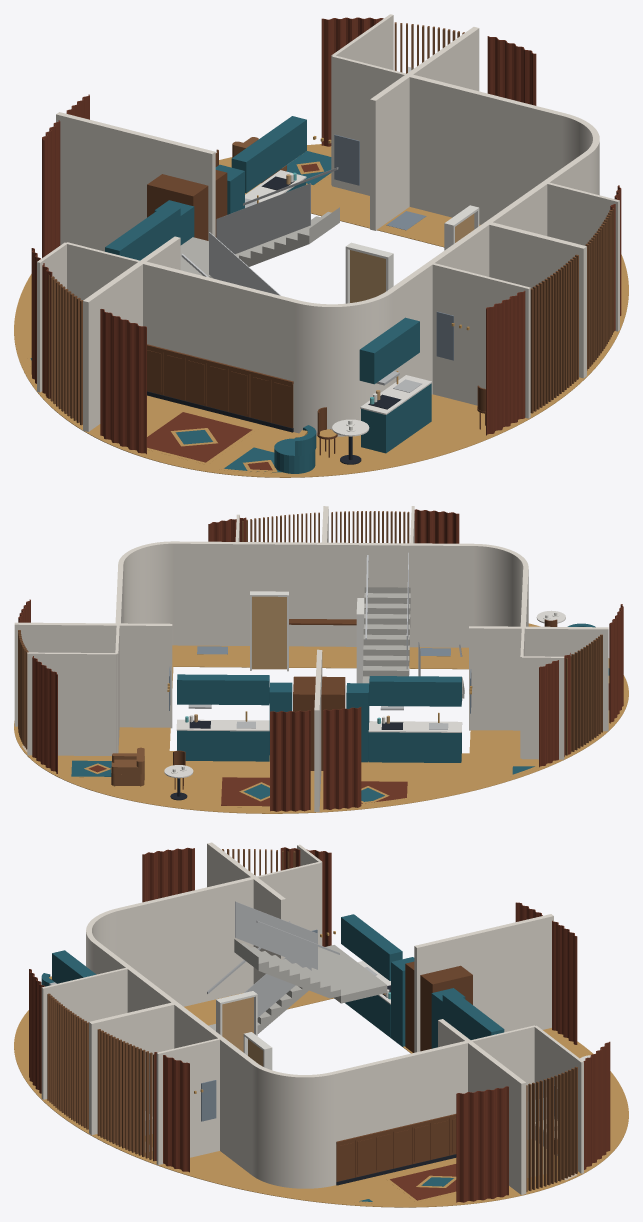
The picture shows the model from 3 angles, top to bottom: view 1: azimuth 30°, elevation 25°; view 2: azimuth 150°, elevation 25°; view 3: azimuth 270°, elevation 25°; orthographic projection. The views are drawn at different scales.
Visible parts, largest first — view 1: Muros, Mobiliario, Elementos genéricos, Pisos, Carpintería, Barandales, Puertas, Escaleras, Equipo especial; view 2: Muros, Mobiliario, Pisos, Carpintería, Elementos genéricos, Escaleras, Puertas, Equipo especial, Barandales; view 3: Muros, Elementos genéricos, Mobiliario, Pisos, Carpintería, Escaleras, Barandales, Puertas, Equipo especial.
Boxes of the visible parts, <box> form: Muros: <box>37,14,619,436</box>; Mobiliario: <box>26,17,621,473</box>; Elementos genéricos: <box>45,22,614,432</box>; Pisos: <box>14,144,628,477</box>; Carpintería: <box>105,116,432,453</box>; Barandales: <box>181,167,338,295</box>; Puertas: <box>345,205,479,303</box>; Escaleras: <box>180,207,339,278</box>; Equipo especial: <box>154,164,244,245</box>; Muros: <box>14,506,608,811</box>; Mobiliario: <box>18,509,623,811</box>; Pisos: <box>14,623,628,813</box>; Carpintería: <box>176,674,462,770</box>; Elementos genéricos: <box>18,511,602,755</box>; Escaleras: <box>362,587,464,704</box>; Puertas: <box>250,591,364,683</box>; Equipo especial: <box>269,682,369,762</box>; Barandales: <box>365,552,462,676</box>; Muros: <box>41,842,583,1194</box>; Elementos genéricos: <box>47,849,577,1191</box>; Mobiliario: <box>29,847,610,1203</box>; Pisos: <box>14,990,628,1207</box>; Carpintería: <box>49,914,557,1154</box>; Escaleras: <box>208,939,387,1033</box>; Barandales: <box>207,901,339,1017</box>; Puertas: <box>216,991,272,1069</box>; Equipo especial: <box>391,957,465,1048</box>.
Bounding box in the file's own units: 14.29 × 4.03 × 14.63.
